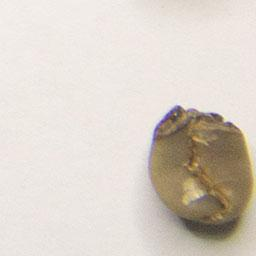defect: (144, 101, 256, 232)
